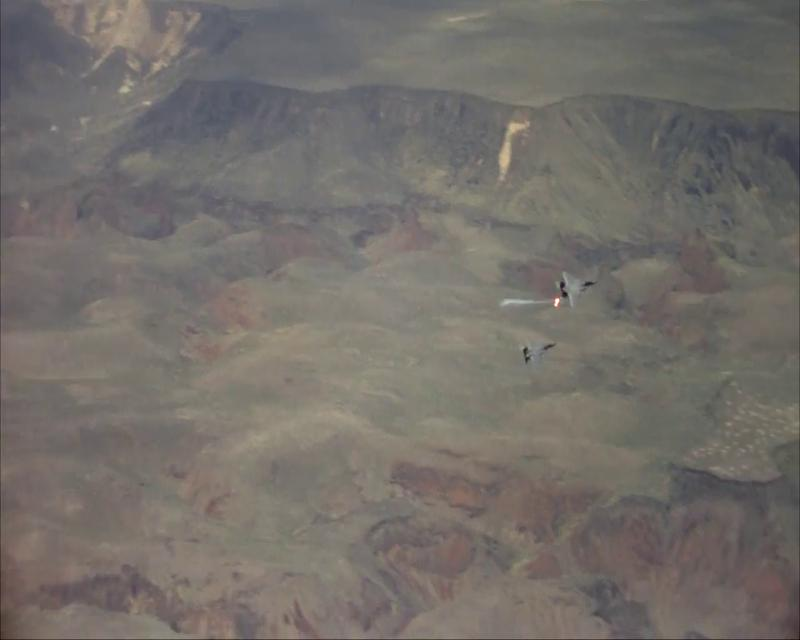UAV: (557, 269, 598, 309), (517, 332, 558, 370)
